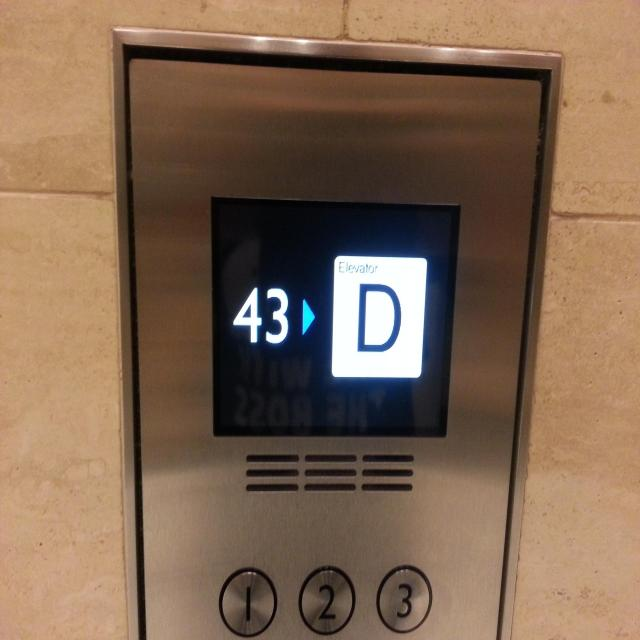1: (219, 567, 277, 636)
2: (298, 565, 356, 636)
3: (376, 565, 432, 634)
led: (211, 195, 461, 439)
